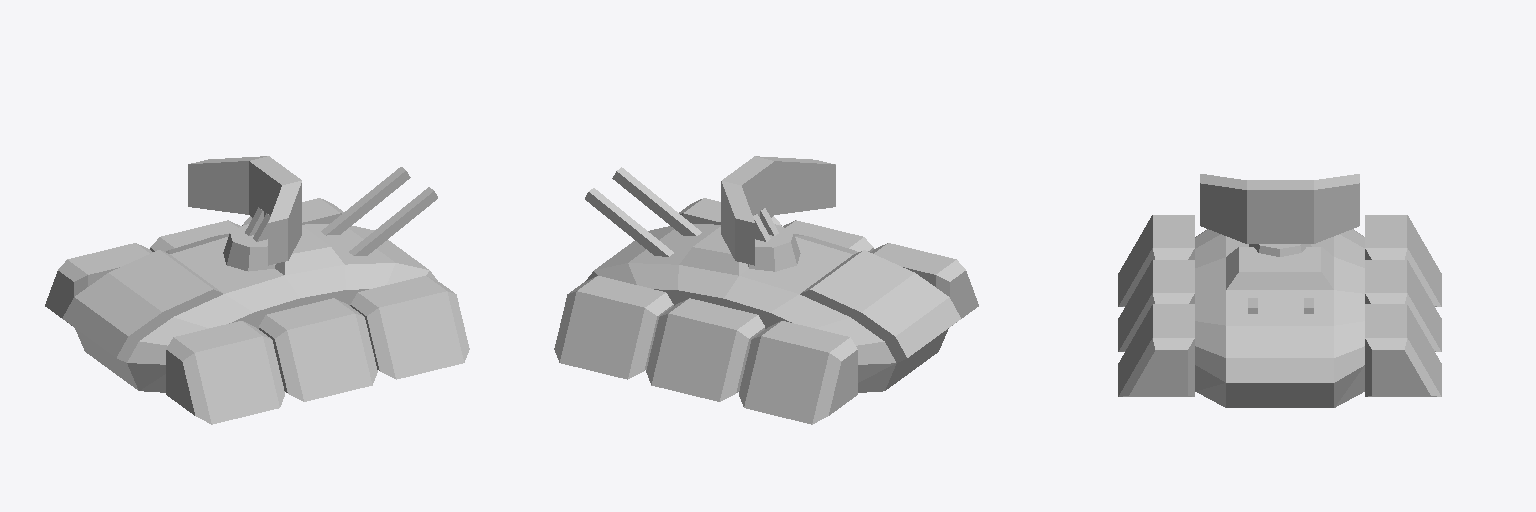
Rendered from Bumblebee Binoc.obj.
3 views of the same model, side by side, from view 1: azimuth 30°, elevation 25°; view 2: azimuth 150°, elevation 25°; view 3: azimuth 270°, elevation 25° (orthographic).
Parts seen in each view (by area): view 1: cube1; view 2: cube1; view 3: cube1.
Boxes of the visible parts, <box> form: cube1: <box>45,156,469,424</box>; cube1: <box>554,156,978,424</box>; cube1: <box>1118,174,1441,407</box>.
Size of the model in its own units: 7.11 by 3.28 by 5.98.